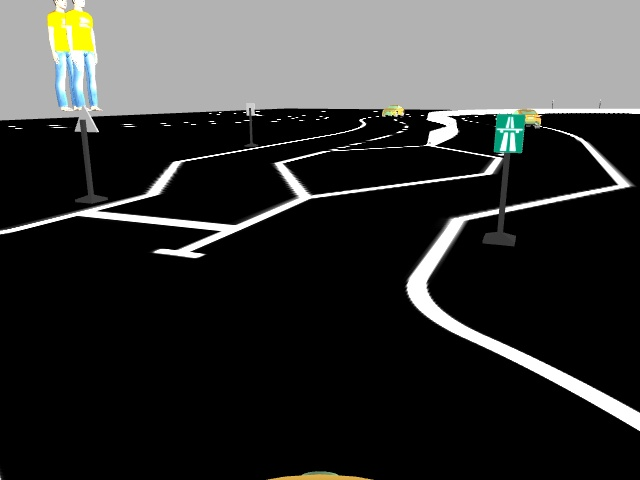HighwayEntrance: (493, 111, 525, 155)
